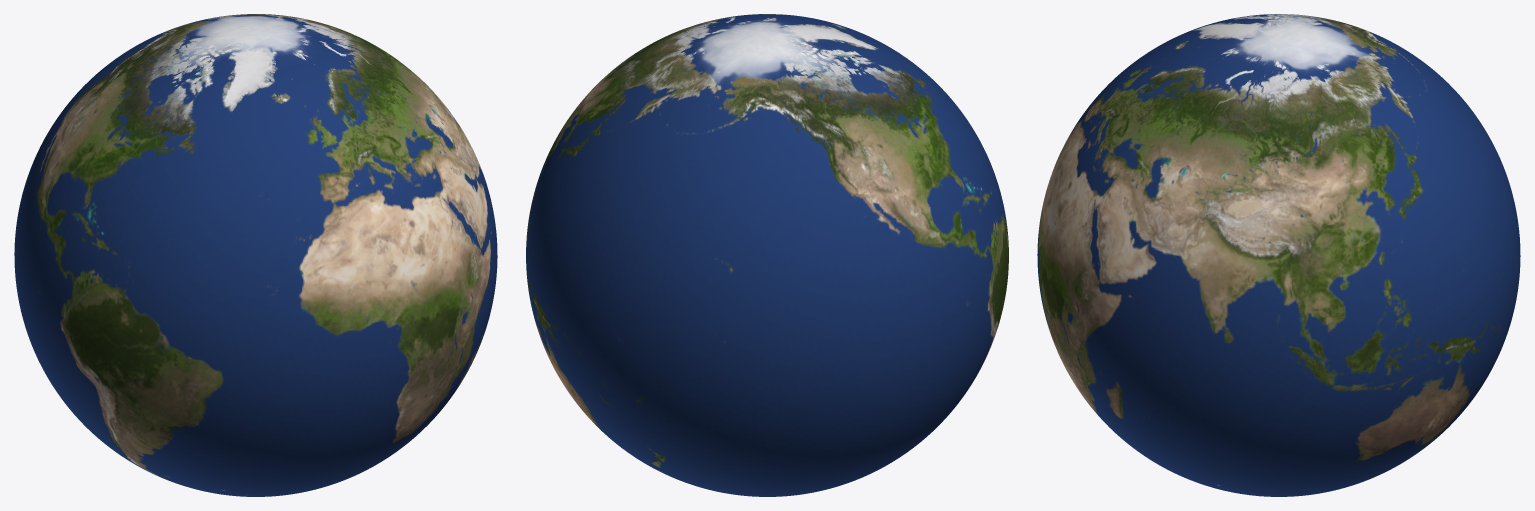
The model's file is Tierra.glb.
3 renders of one model, left to right at view 1: azimuth 30°, elevation 25°; view 2: azimuth 150°, elevation 25°; view 3: azimuth 270°, elevation 25°, orthographic.
Parts seen in each view (by area): view 1: Tierra; view 2: Tierra; view 3: Tierra.
Boxes of the visible parts, bbox=[...] form: Tierra: bbox=[14, 14, 497, 496]; Tierra: bbox=[526, 14, 1008, 496]; Tierra: bbox=[1037, 14, 1520, 496].
Size of the model in its own units: 2 by 2 by 2.
1 material, 1 textured.
